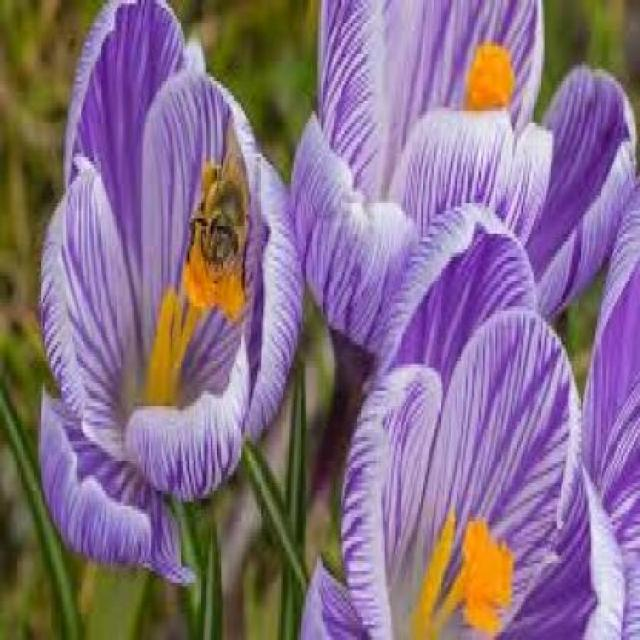saffron open: (41, 0, 302, 582), (302, 210, 624, 640), (295, 0, 635, 346)
